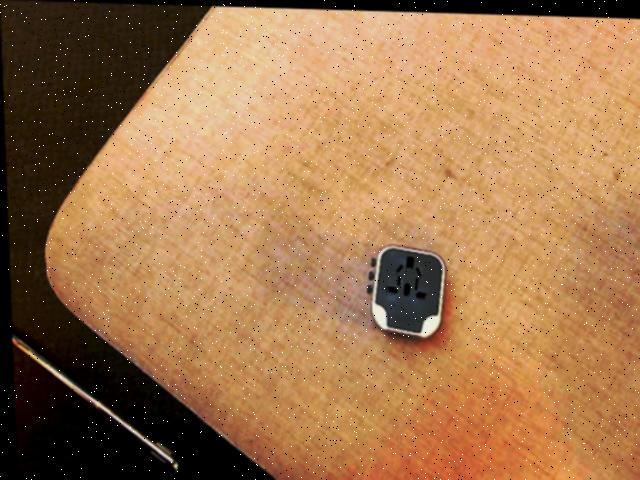adapter: (362, 241, 444, 337)
